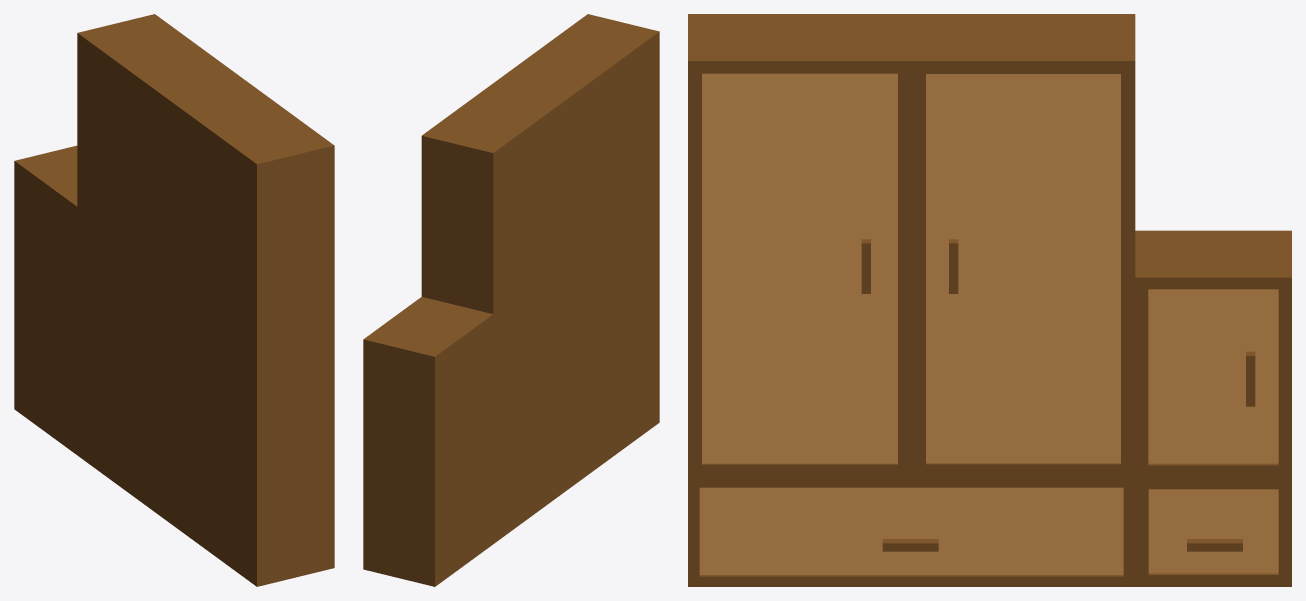
The model's file is closetshelf.fbx.
3 views of the same model, side by side, from view 1: azimuth 30°, elevation 25°; view 2: azimuth 150°, elevation 25°; view 3: azimuth 270°, elevation 25° (orthographic). The views are drawn at different scales.
Parts seen in each view (by area): view 1: Cube.051; view 2: Cube.051; view 3: Cube.051.
Part boxes in pixels (x1,y1,x2,y2): Cube.051: (14, 14, 334, 586); Cube.051: (363, 14, 659, 586); Cube.051: (688, 14, 1291, 586).
Size of the model in its own units: 420 by 2072 by 2156.
